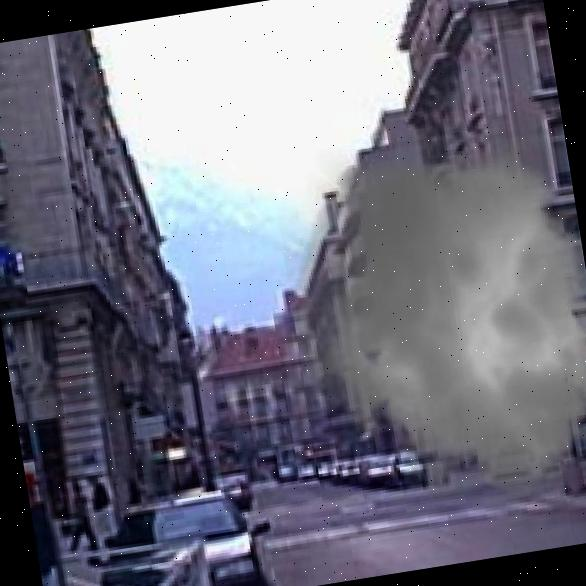smoke: (258, 112, 586, 544)
